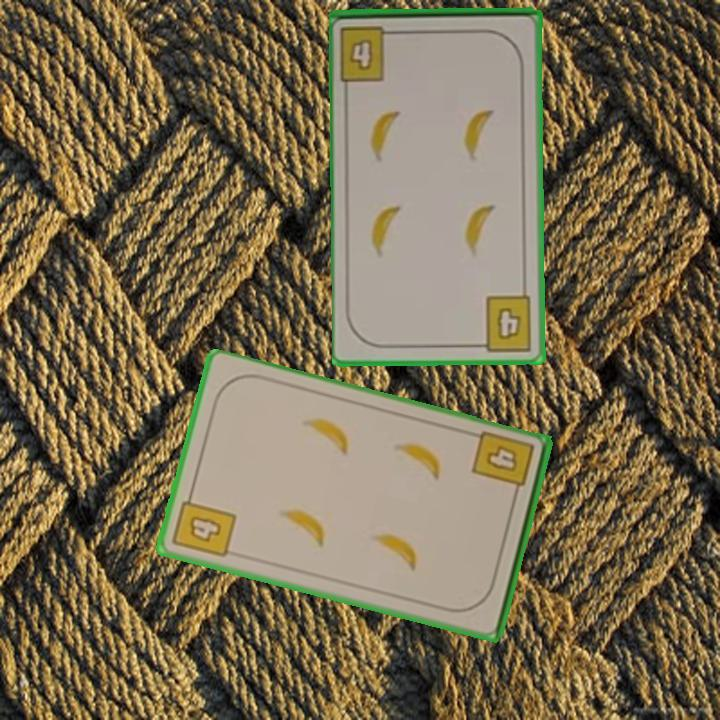4b: (468, 427, 537, 503), (169, 487, 239, 561), (337, 22, 402, 84), (473, 292, 535, 354)
